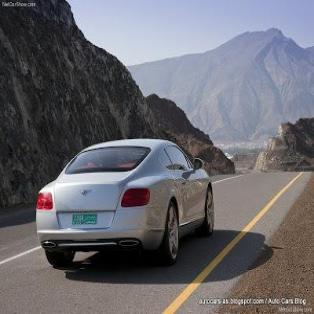Auto: (34, 136, 216, 270)
